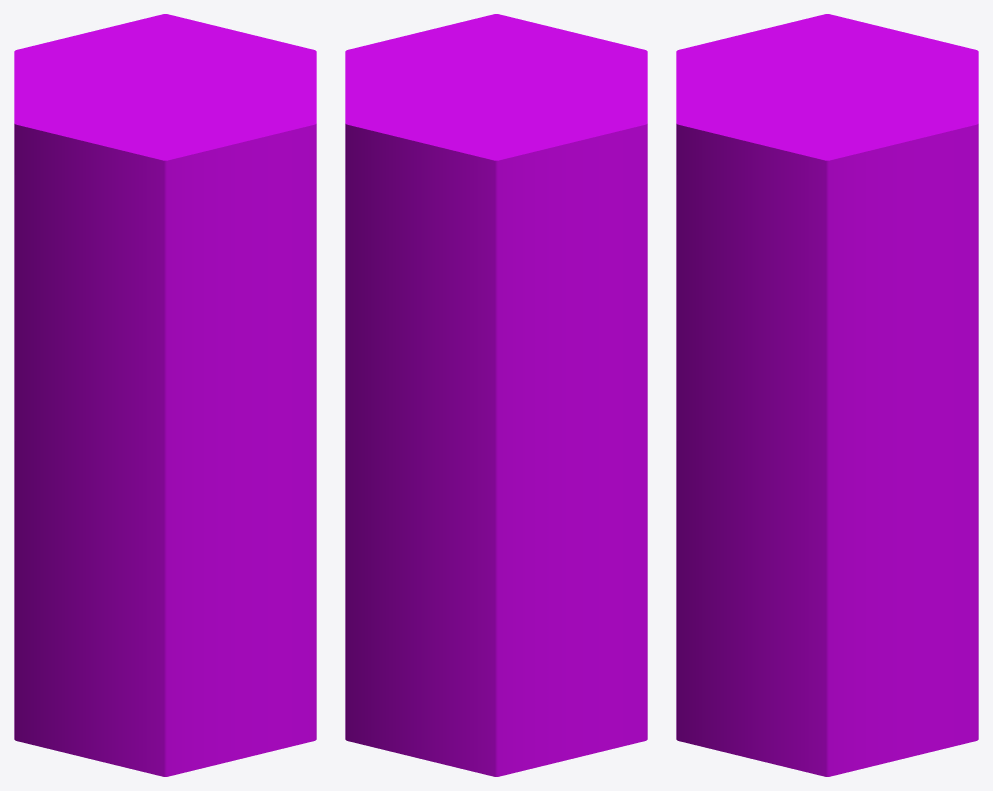
File: FlatFloorHex.FBX
3 renders of one model, left to right at view 1: azimuth 30°, elevation 25°; view 2: azimuth 150°, elevation 25°; view 3: azimuth 270°, elevation 25°, orthographic.
Visible parts, largest first — view 1: Object177; view 2: Object177; view 3: Object177.
Boxes of the visible parts, x1,y1,x2,y2 form: Object177: (14,14,316,776); Object177: (345,14,647,776); Object177: (676,14,978,776).
Size of the model in its own units: 250 by 218 by 490.
